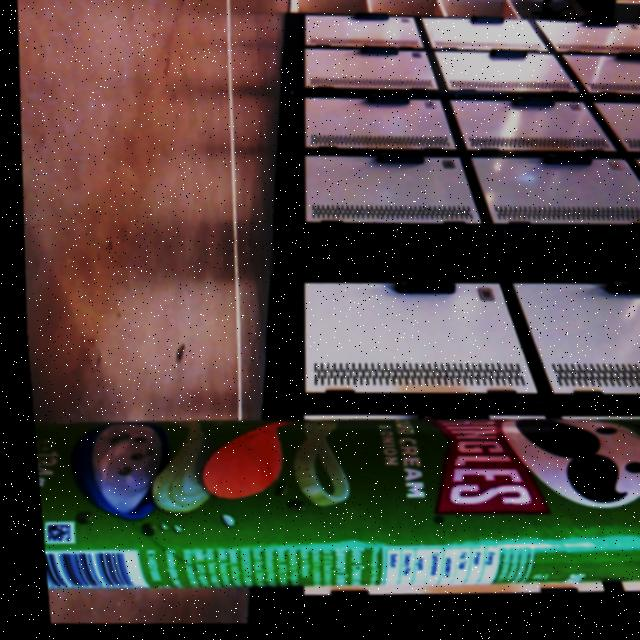greenpringles: (25, 359, 640, 640)
